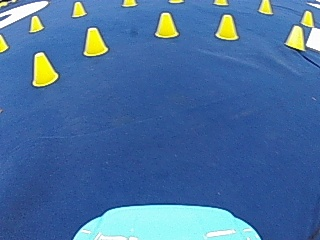cone: (31, 50, 59, 85), (82, 26, 108, 55), (214, 13, 238, 40), (154, 11, 178, 37), (285, 24, 305, 49), (28, 15, 43, 32), (71, 1, 86, 17), (300, 10, 313, 27), (258, 0, 272, 14), (0, 32, 9, 52), (123, 0, 135, 7)
